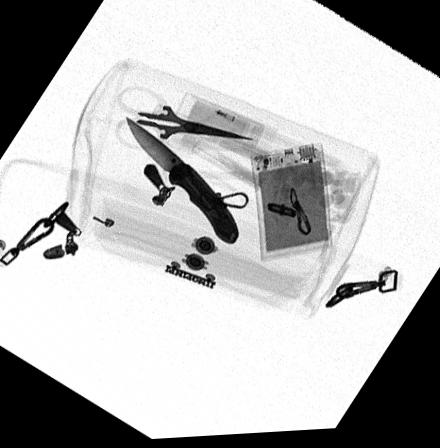Knife: (123, 116, 238, 245)
Powerbank: (251, 148, 332, 264)
Scissors: (115, 85, 257, 149)
